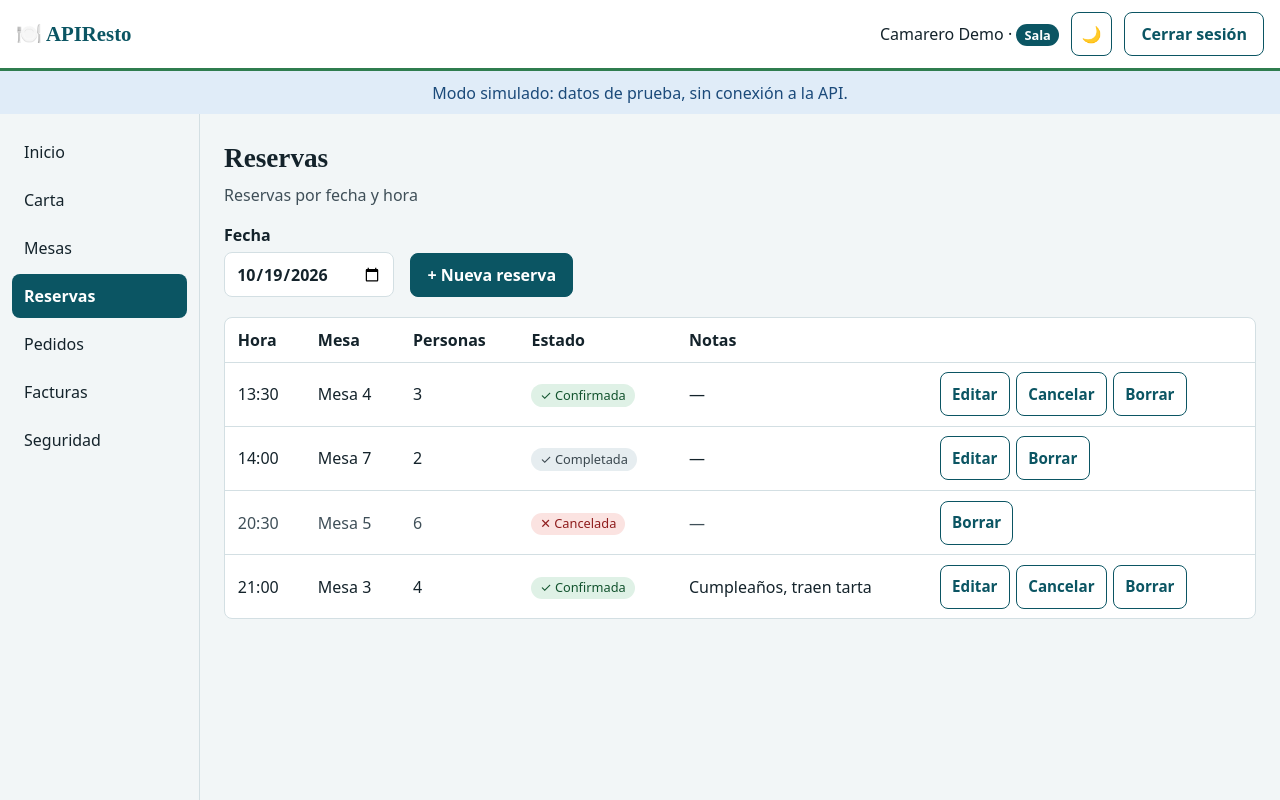
Reservas › cancela una reserva confirmada
Click the button with aria-label "Cancelar reserva de las 13:30": (1061, 394) left=1016, top=372, right=1107, bottom=416
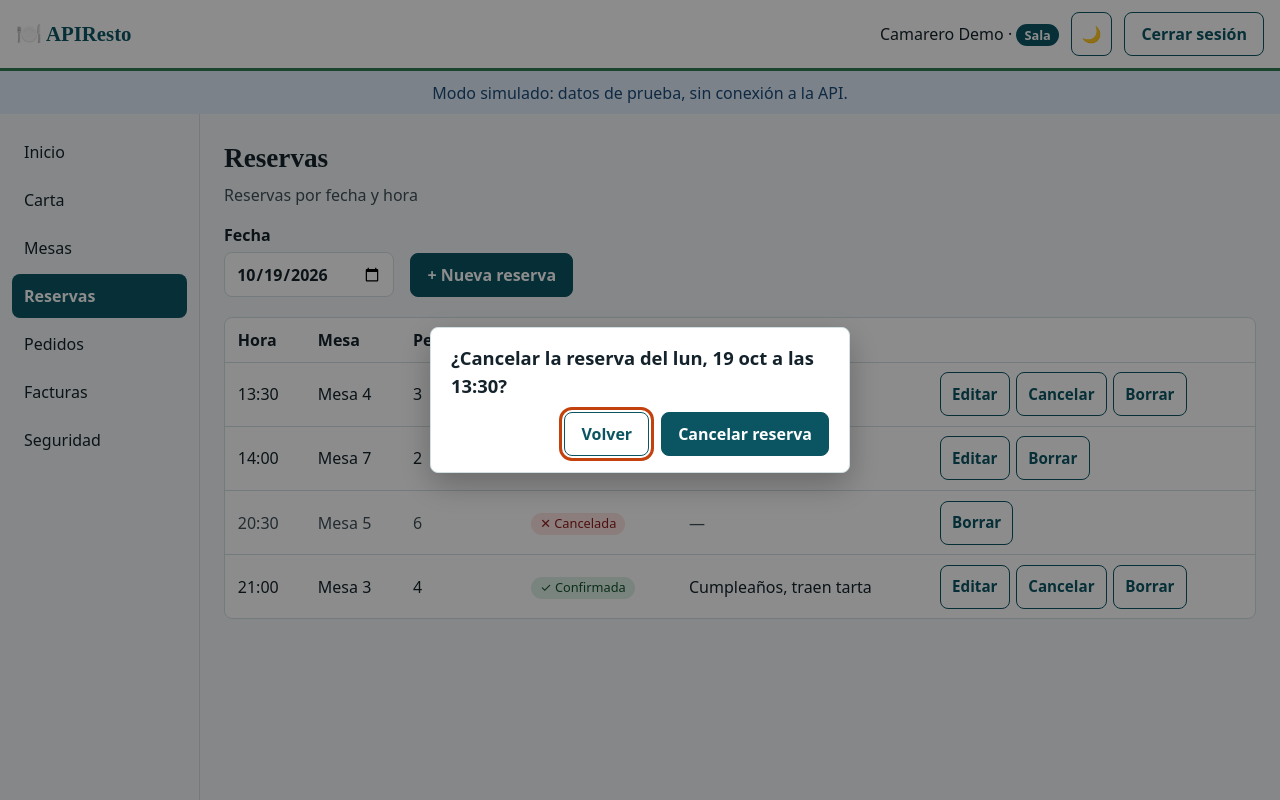
Click the button "Cancelar reserva": (745, 434) left=661, top=412, right=829, bottom=456
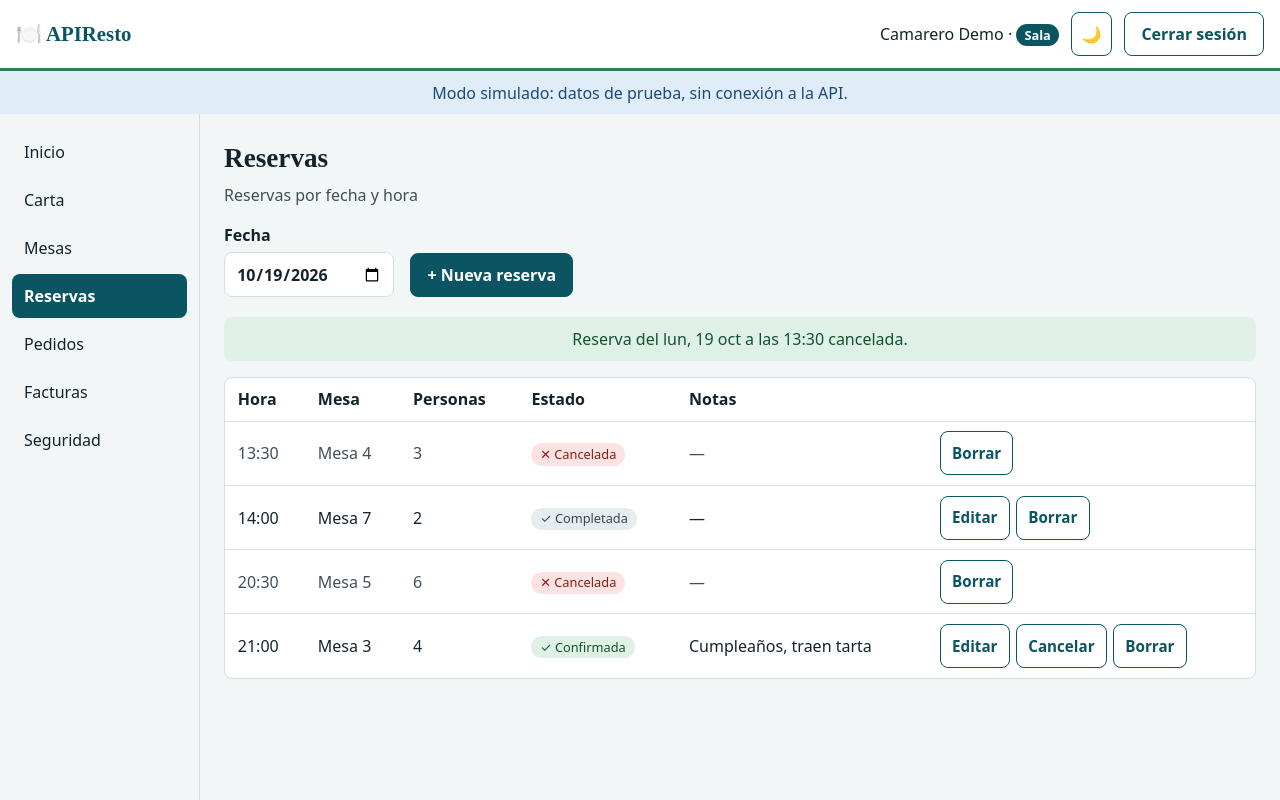
Expected: the text "Cancelada" is shown 2 times, left=531, top=443, right=625, bottom=466; left=531, top=572, right=625, bottom=594
Expected: the message shows "cancelada", left=572, top=328, right=908, bottom=350
